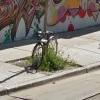Bicycle: (28, 25, 59, 66)
